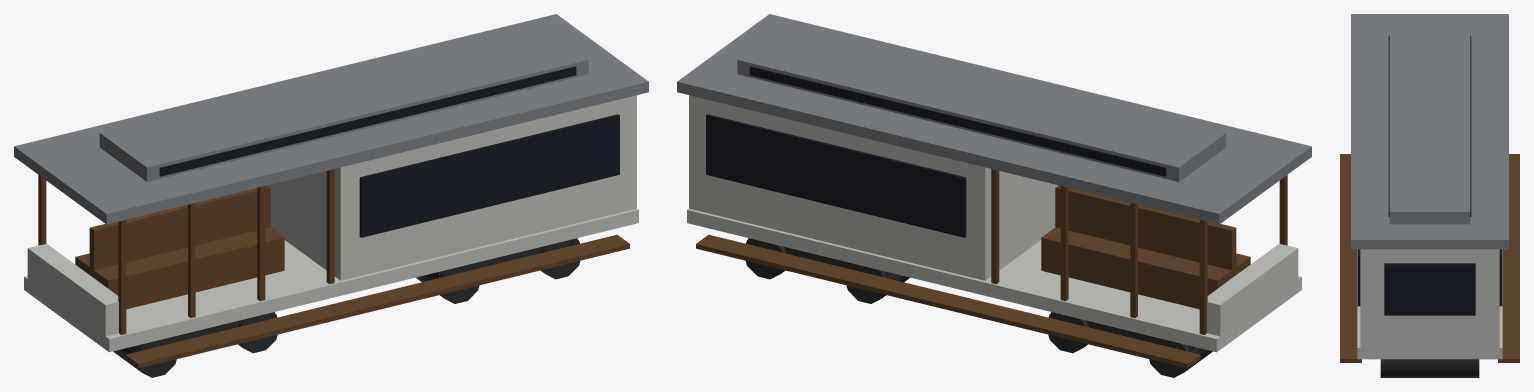
Rendered from cable_tram.glb.
3 renders of one model, left to right at view 1: azimuth 30°, elevation 25°; view 2: azimuth 150°, elevation 25°; view 3: azimuth 270°, elevation 25°, orthographic. The views are drawn at different scales.
Parts seen in each view (by area): view 1: cable_tram; view 2: cable_tram; view 3: cable_tram.
Boxes of the visible parts, x1=… form: cable_tram: x1=14, y1=14, x2=648, y2=377; cable_tram: x1=677, y1=14, x2=1311, y2=377; cable_tram: x1=1340, y1=14, x2=1519, y2=377.
Size of the model in its own units: 8.6 by 3.13 by 2.89.
